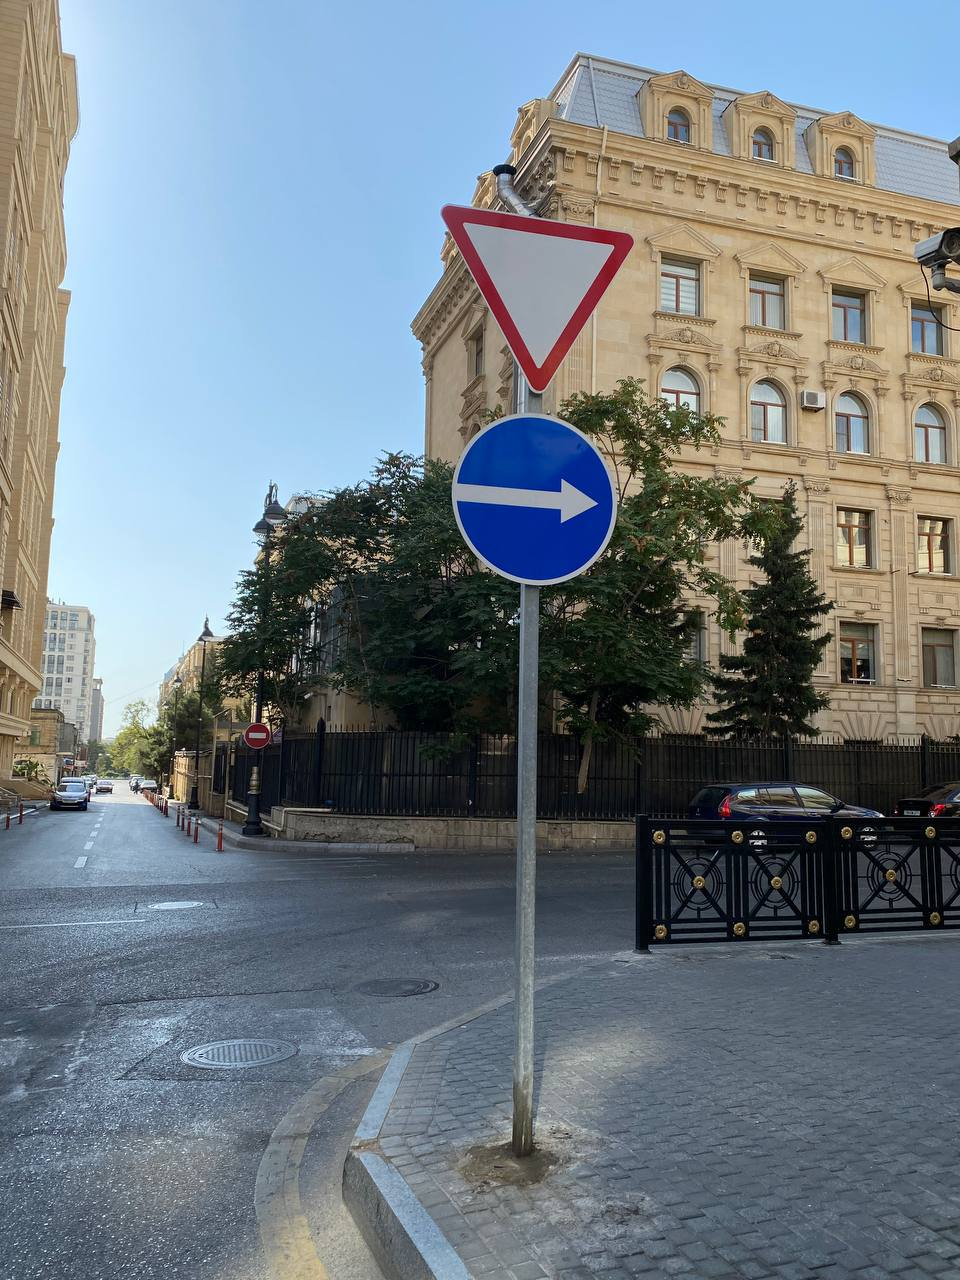Give Way: (442, 202, 635, 394)
Turn Right: (450, 412, 619, 585)
